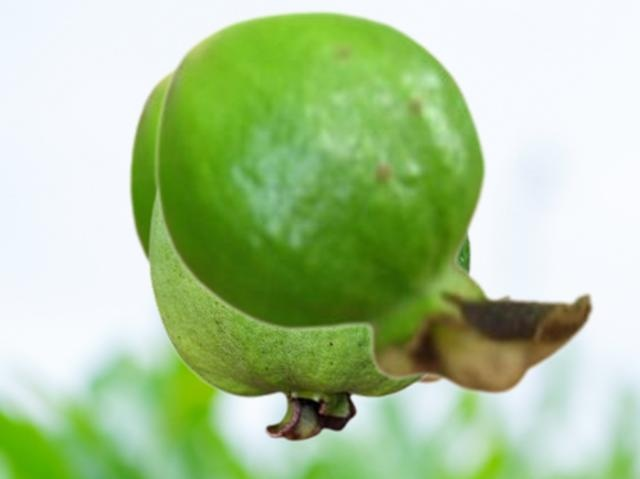guava: (152, 7, 596, 397), (126, 67, 514, 386), (147, 190, 472, 442)
